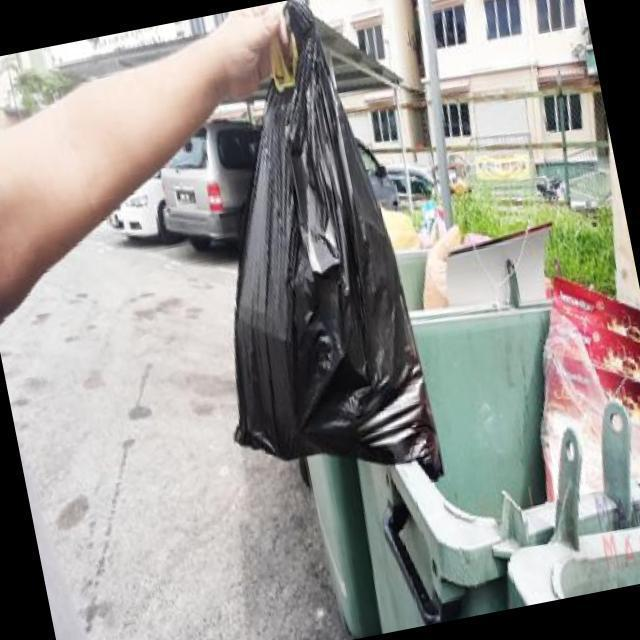Garbage_Bag: (41, 0, 529, 539)
